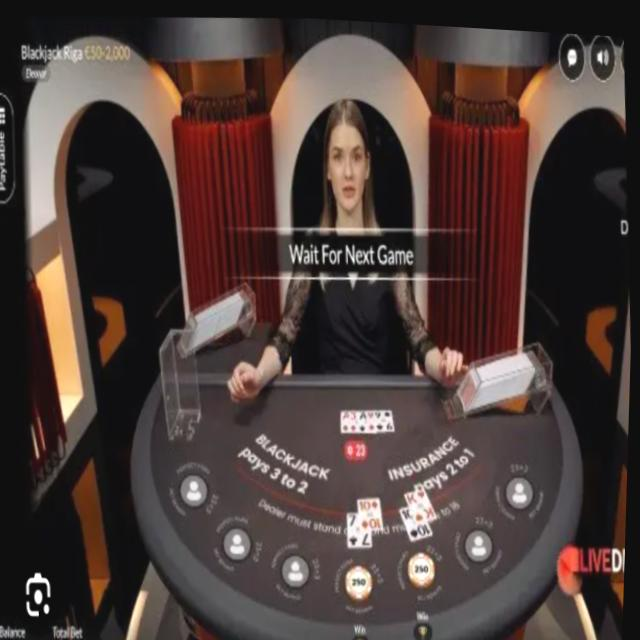Card-10: (402, 501, 437, 537), (360, 493, 386, 526)
Card-3: (353, 405, 362, 428)
Card-7: (350, 508, 375, 543)
Card-9: (378, 404, 397, 428), (370, 404, 378, 429)
Card-A: (343, 405, 353, 429), (362, 405, 371, 429)
Card-K: (407, 482, 440, 520)
